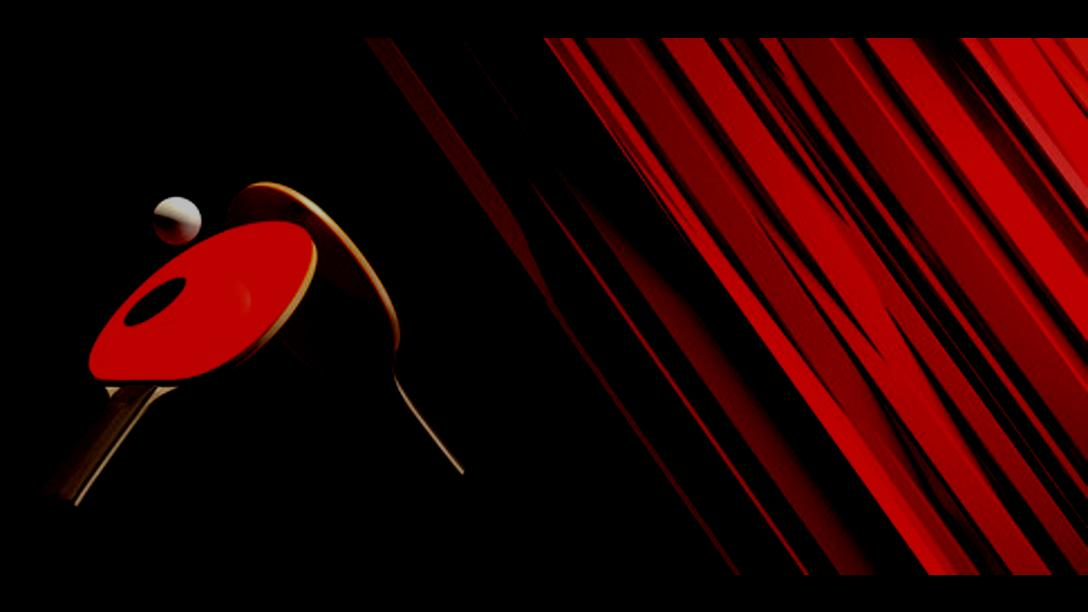Table-Tennis-Ball: (153, 195, 201, 245)
